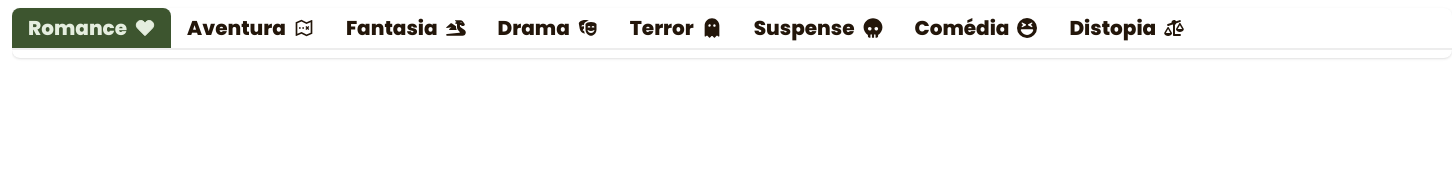
Test: ComunidadesTabs › permite trocar de aba e mostrar comunidades do gênero correto
expect the text "Romance" is shown: met, box left=28, top=16, right=127, bottom=40
Click the tab "Aventura".
click(250, 28)  # box left=171, top=8, right=330, bottom=48
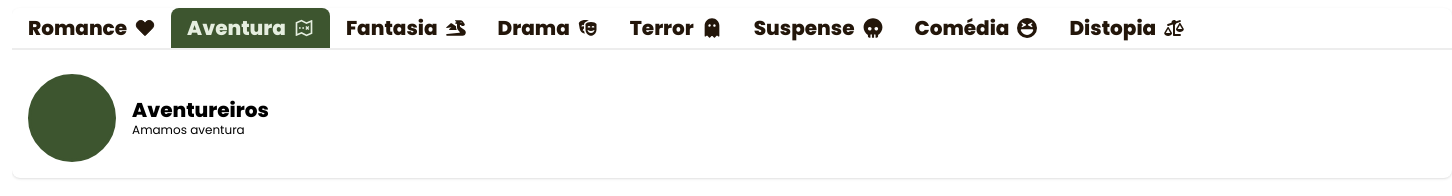
expect the heading "Aventureiros" is shown: met, box left=132, top=96, right=269, bottom=124
